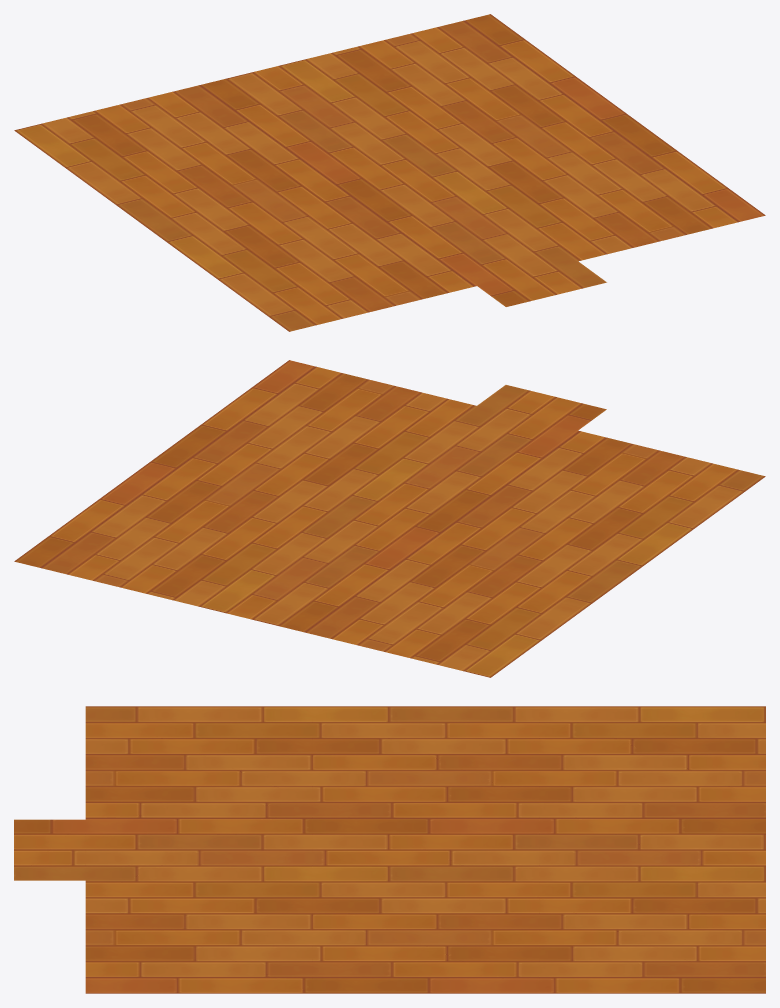
The model's file is Floor04_a02.FBX.
3 renders of one model, top to bottom at view 1: azimuth 30°, elevation 25°; view 2: azimuth 150°, elevation 25°; view 3: azimuth 270°, elevation 25°, orthographic. The views are drawn at different scales.
Parts seen in each view (by area): view 1: Floor04_a02; view 2: Floor04_a02; view 3: Floor04_a02.
Part boxes in pixels (left/top/right/bottom): Floor04_a02: left=14, top=14, right=765, bottom=331; Floor04_a02: left=14, top=360, right=765, bottom=677; Floor04_a02: left=14, top=706, right=765, bottom=993.
Size of the model in its own units: 900 by 0.000446 by 995.
Materials: 1 (1 with a texture image).
